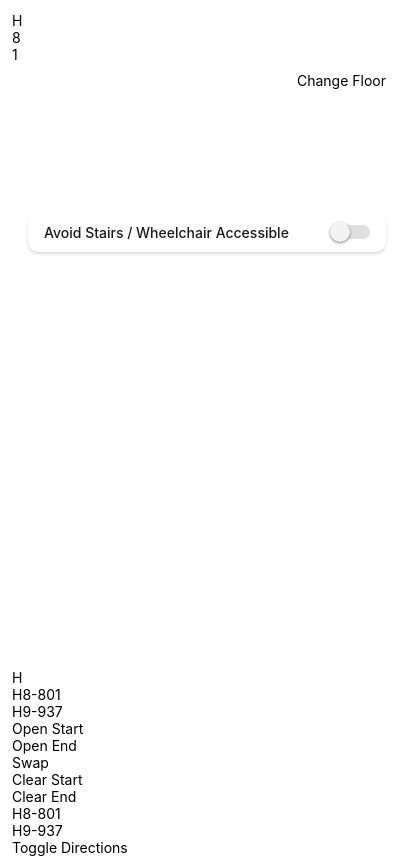
Test: IndoorNavigation › builds a synthetic destination leg when direct and reverse destination legs are unavailable
The width and height of the screenshot is (402, 856).
Click the element with test id "toggle-directions". click: (70, 848)
box: [12,839,128,855]
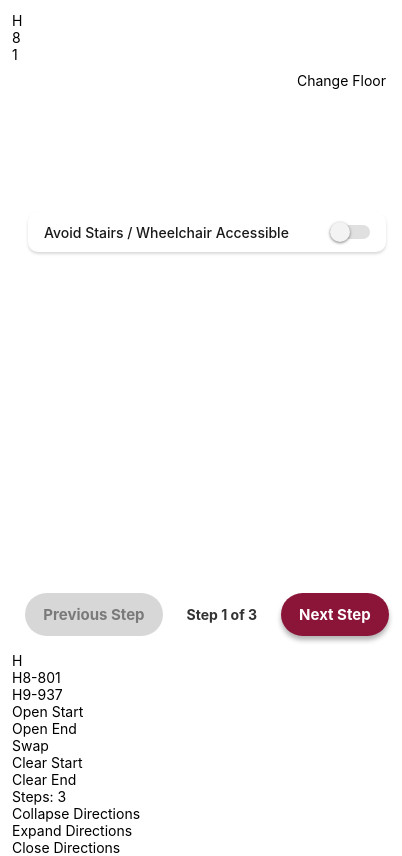
Expected: the text "Steps: 3" is shown, [12,788,66,805]
